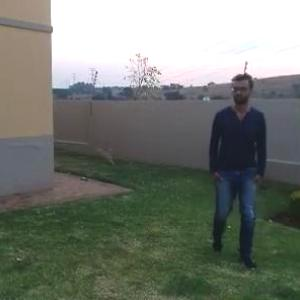follow: (202, 68, 255, 256)
